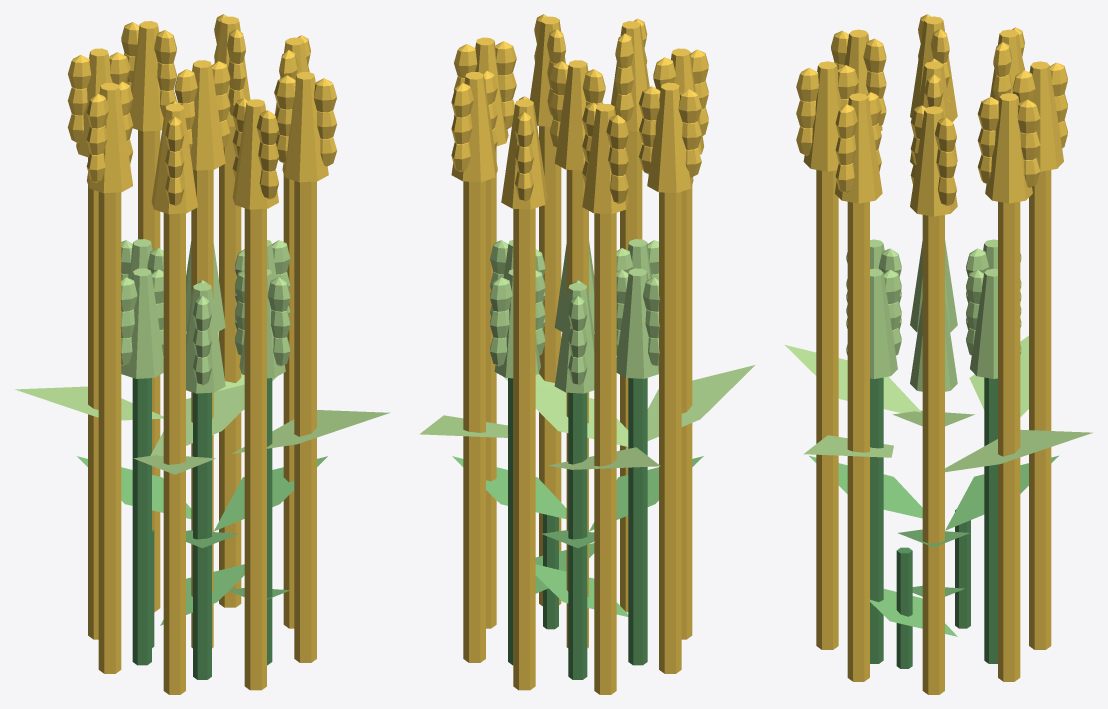
Rendered from Wheat.glb.
3 views of the same model, side by side, from view 1: azimuth 30°, elevation 25°; view 2: azimuth 150°, elevation 25°; view 3: azimuth 270°, elevation 25° (orthographic).
Parts seen in each view (by area): view 1: SM_FTF_Plant_Wheat_S03_Stalk_05, SM_FTF_Plant_Wheat_S03_Stalk_07, SM_FTF_Plant_Wheat_S03_Stalk_08, SM_FTF_Plant_Wheat_S03_Stalk_06, SM_FTF_Plant_Wheat_S03_Stalk_02, SM_FTF_Plant_Wheat_S02_Stalk_03, SM_FTF_Plant_Wheat_S02_Stalk_04, SM_FTF_Plant_Wheat_S03_Stalk_04, SM_FTF_Plant_Wheat_S03_Stalk_01, SM_FTF_Plant_Wheat_S03_Stalk_03, SM_FTF_Plant_Wheat_S03_Stalk_00, SM_FTF_Plant_Wheat_S03_Head_08 (+28 smaller); view 2: SM_FTF_Plant_Wheat_S03_Stalk_03, SM_FTF_Plant_Wheat_S03_Stalk_05, SM_FTF_Plant_Wheat_S03_Stalk_04, SM_FTF_Plant_Wheat_S03_Stalk_02, SM_FTF_Plant_Wheat_S03_Stalk_08, SM_FTF_Plant_Wheat_S02_Stalk_02, SM_FTF_Plant_Wheat_S02_Stalk_03, SM_FTF_Plant_Wheat_S03_Stalk_06, SM_FTF_Plant_Wheat_S03_Stalk_01, SM_FTF_Plant_Wheat_S03_Stalk_00, SM_FTF_Plant_Wheat_S03_Stalk_07, SM_FTF_Plant_Wheat_S03_Head_05 (+35 smaller); view 3: SM_FTF_Plant_Wheat_S03_Stalk_01, SM_FTF_Plant_Wheat_S03_Stalk_08, SM_FTF_Plant_Wheat_S03_Stalk_02, SM_FTF_Plant_Wheat_S03_Stalk_07, SM_FTF_Plant_Wheat_S03_Stalk_03, SM_FTF_Plant_Wheat_S02_Stalk_05, SM_FTF_Plant_Wheat_S02_Stalk_01, SM_FTF_Plant_Wheat_S03_Head_02, SM_FTF_Plant_Wheat_S03_Head_07, SM_FTF_Plant_Wheat_S03_Head_08, SM_FTF_Plant_Wheat_S03_Head_01, SM_FTF_Plant_Wheat_S02_Head_01 (+31 smaller).
Part boxes in pixels (x1,y1,x2,y2): SM_FTF_Plant_Wheat_S03_Stalk_05: (98,192,121,673); SM_FTF_Plant_Wheat_S03_Stalk_07: (244,208,266,690); SM_FTF_Plant_Wheat_S03_Stalk_08: (294,181,316,662); SM_FTF_Plant_Wheat_S03_Stalk_06: (163,213,185,694); SM_FTF_Plant_Wheat_S03_Stalk_02: (219,126,241,607); SM_FTF_Plant_Wheat_S02_Stalk_03: (132,378,151,665); SM_FTF_Plant_Wheat_S02_Stalk_04: (193,392,211,679); SM_FTF_Plant_Wheat_S03_Stalk_04: (88,157,98,639); SM_FTF_Plant_Wheat_S03_Stalk_01: (283,174,294,628); SM_FTF_Plant_Wheat_S03_Stalk_03: (138,130,160,612); SM_FTF_Plant_Wheat_S03_Stalk_00: (191,169,213,648); SM_FTF_Plant_Wheat_S03_Head_08: (282,72,328,182); SM_FTF_Plant_Wheat_S03_Stalk_03: (513,208,535,690); SM_FTF_Plant_Wheat_S03_Stalk_05: (659,191,681,673); SM_FTF_Plant_Wheat_S03_Stalk_04: (594,212,616,694); SM_FTF_Plant_Wheat_S03_Stalk_02: (463,181,485,662); SM_FTF_Plant_Wheat_S03_Stalk_08: (539,126,561,606); SM_FTF_Plant_Wheat_S02_Stalk_02: (568,392,587,679); SM_FTF_Plant_Wheat_S02_Stalk_03: (628,378,647,665); SM_FTF_Plant_Wheat_S03_Stalk_06: (681,185,692,639); SM_FTF_Plant_Wheat_S03_Stalk_01: (486,147,496,628); SM_FTF_Plant_Wheat_S03_Stalk_00: (566,169,588,648); SM_FTF_Plant_Wheat_S03_Stalk_07: (620,131,642,612); SM_FTF_Plant_Wheat_S03_Head_05: (647,82,693,193); SM_FTF_Plant_Wheat_S03_Stalk_01: (922,215,944,694); SM_FTF_Plant_Wheat_S03_Stalk_08: (847,201,869,681); SM_FTF_Plant_Wheat_S03_Stalk_02: (998,201,1020,681); SM_FTF_Plant_Wheat_S03_Stalk_07: (816,170,838,649); SM_FTF_Plant_Wheat_S03_Stalk_03: (1029,170,1051,649); SM_FTF_Plant_Wheat_S02_Stalk_05: (870,377,883,663); SM_FTF_Plant_Wheat_S02_Stalk_01: (984,377,997,663); SM_FTF_Plant_Wheat_S03_Head_02: (985,93,1032,203); SM_FTF_Plant_Wheat_S03_Head_07: (803,61,841,171); SM_FTF_Plant_Wheat_S03_Head_08: (835,93,882,203); SM_FTF_Plant_Wheat_S03_Head_01: (910,106,957,216); SM_FTF_Plant_Wheat_S02_Head_01: (970,268,997,378).
Size of what is drawn, in the model's own units: 0.566 by 1.21 by 0.5821.
